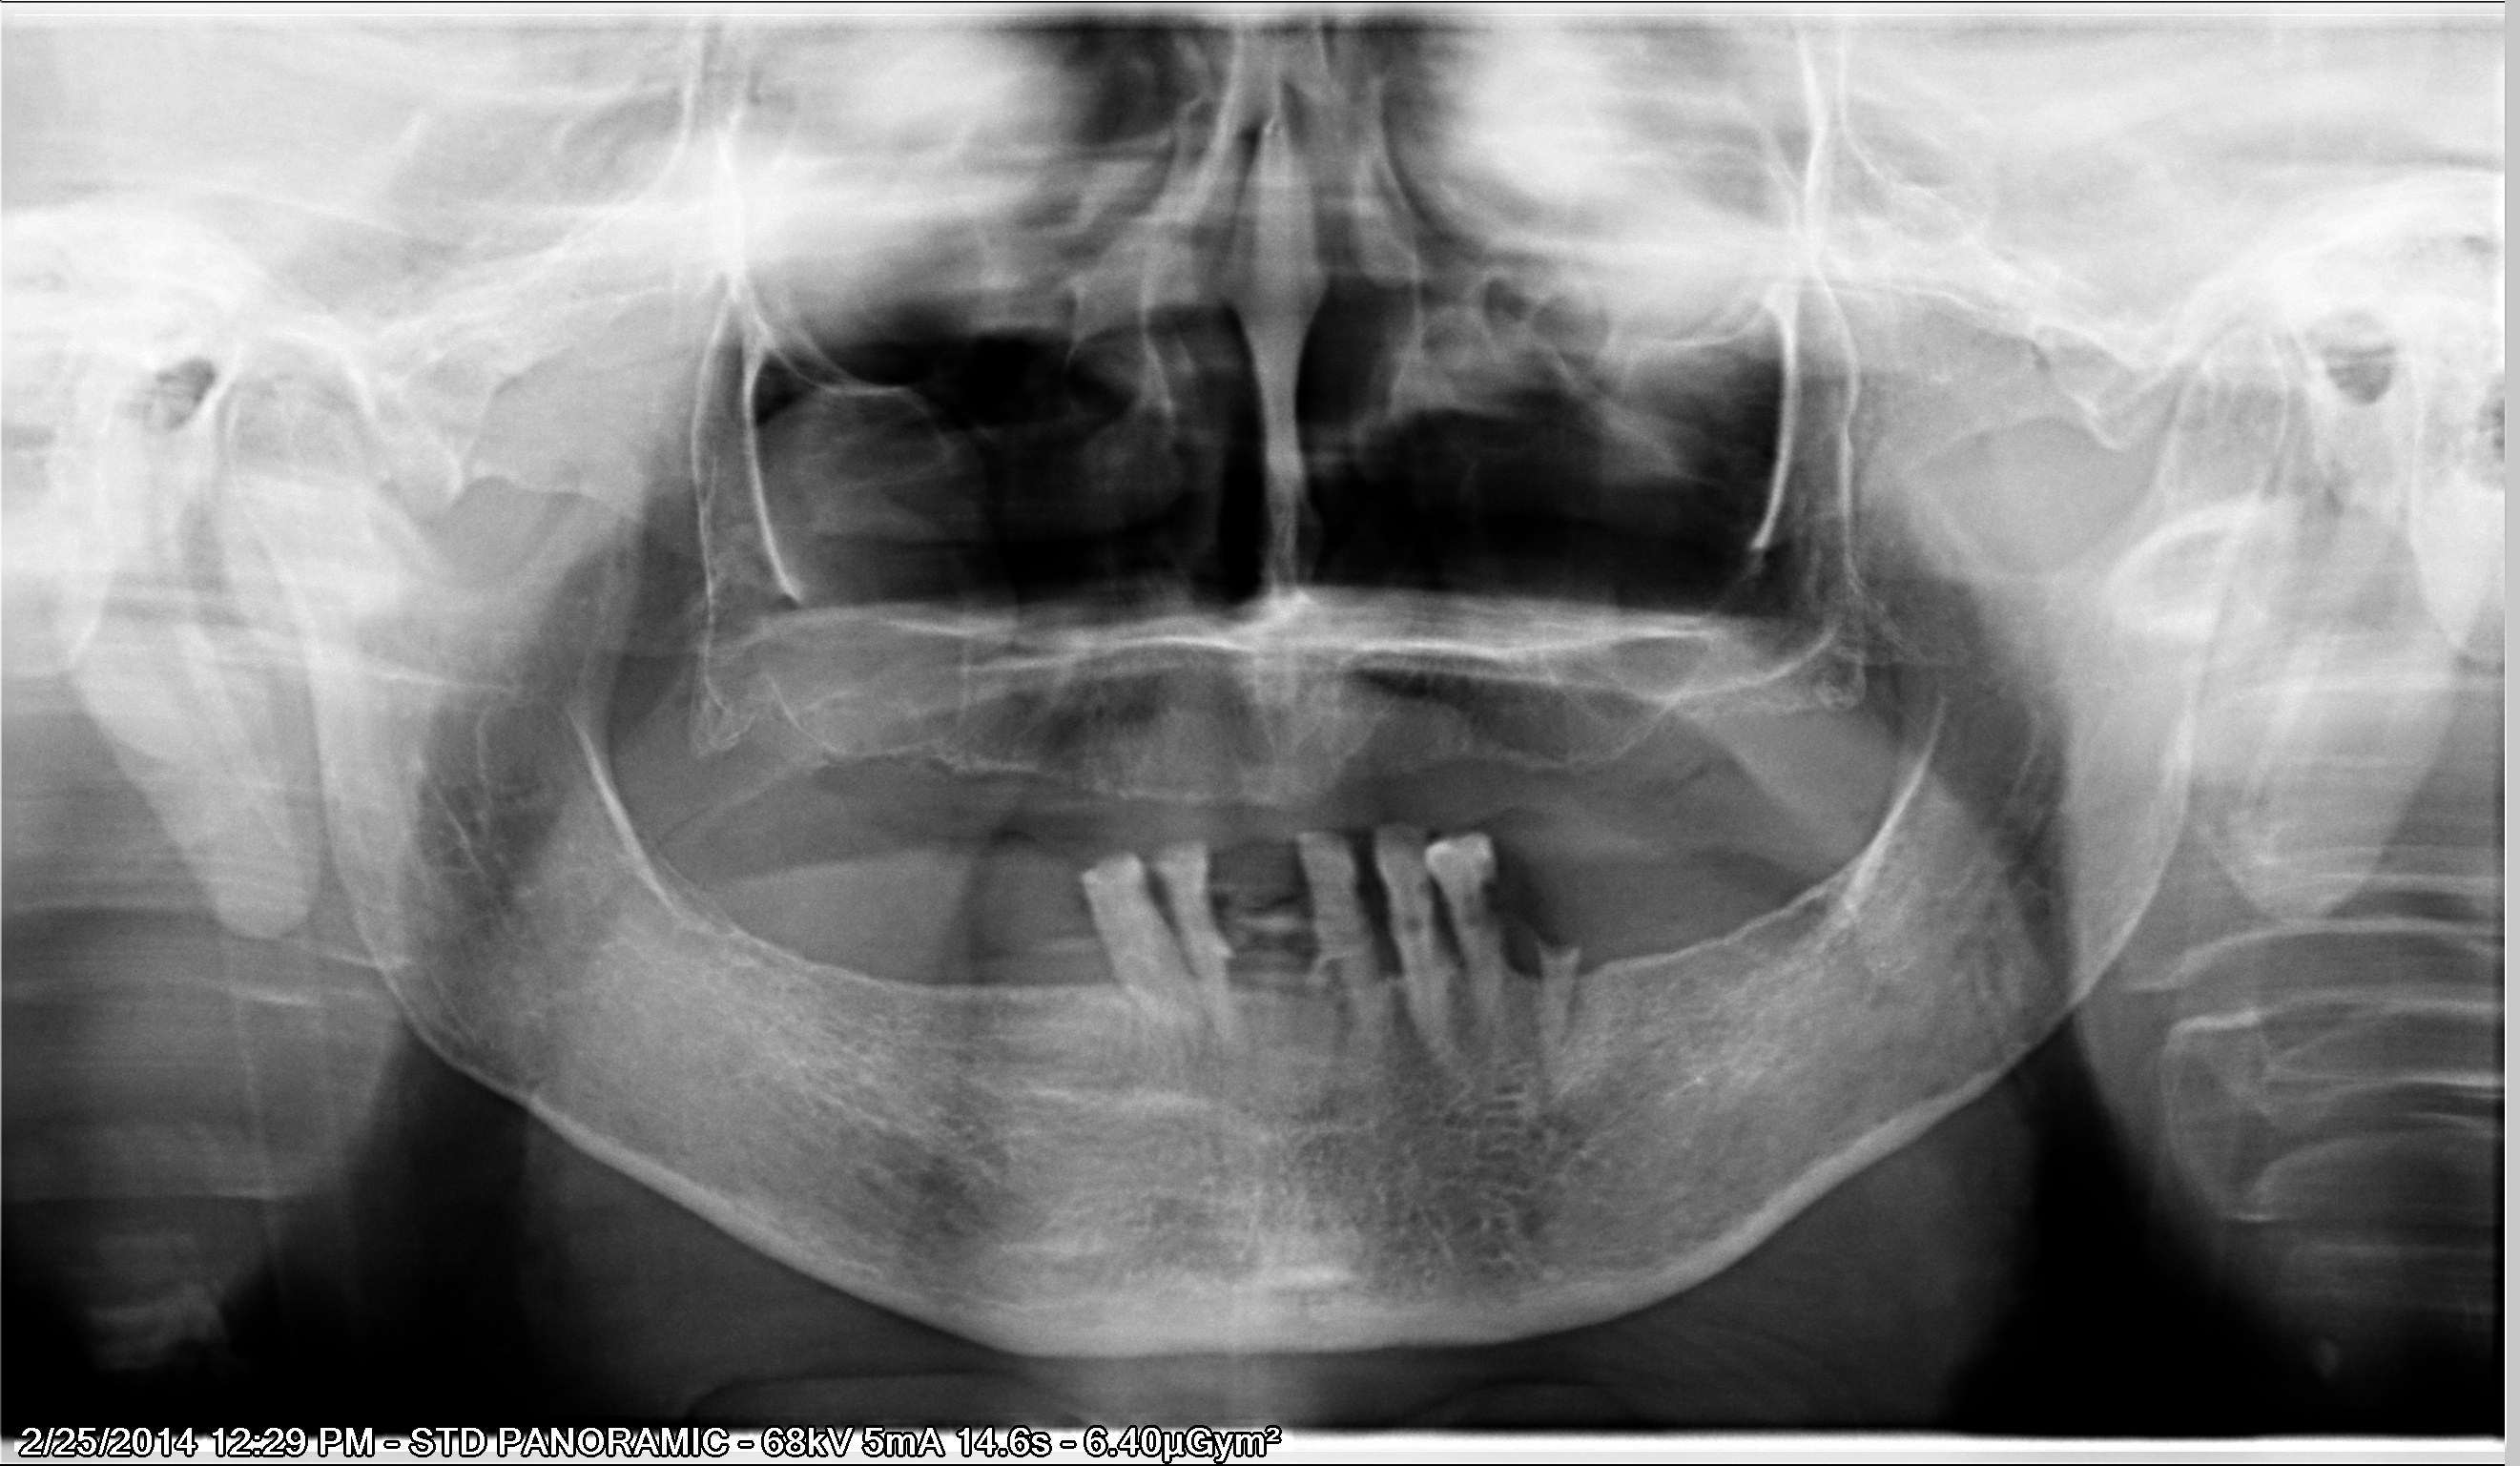BON: (693, 387, 2162, 1379), (642, 394, 2063, 1393), (541, 400, 1747, 1387)
CAR: (686, 387, 2208, 1319), (686, 429, 2120, 1382), (675, 419, 2120, 1323)
ROT: (698, 353, 2307, 1433)
